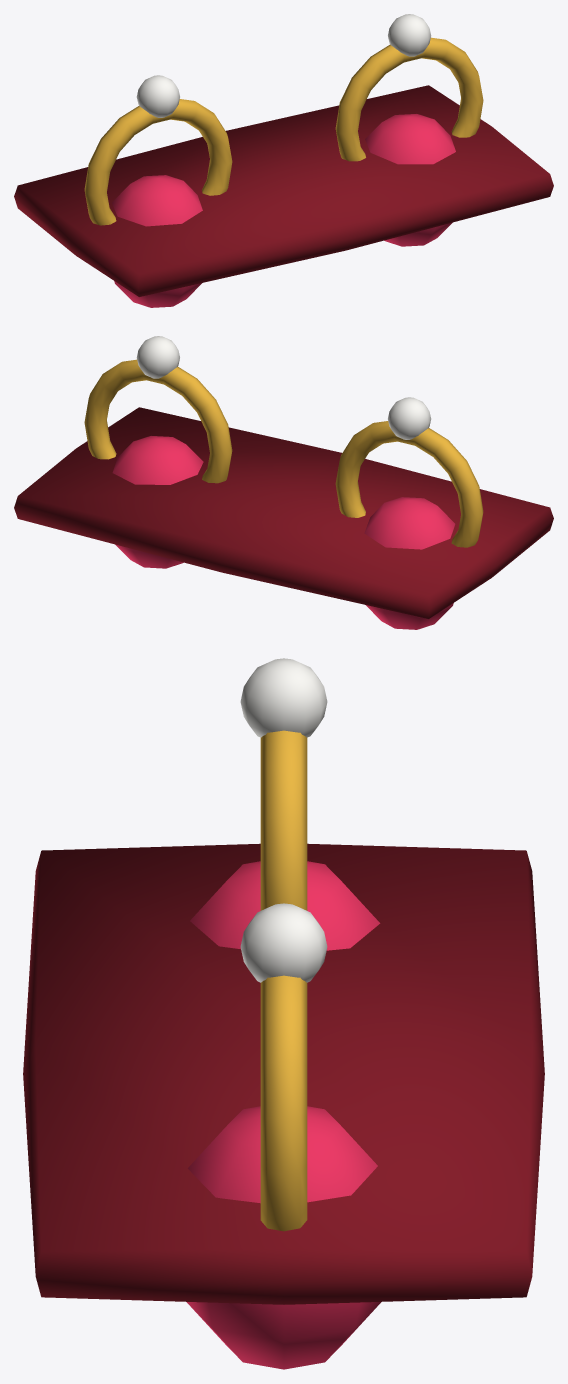
Rendered from earrings.glb.
3 views of the same model, one above another, from view 1: azimuth 30°, elevation 25°; view 2: azimuth 150°, elevation 25°; view 3: azimuth 270°, elevation 25° (orthographic). The views are drawn at different scales.
Parts seen in each view (by area): view 1: root; view 2: root; view 3: root.
Boxes of the visible parts, x1,y1,x2,y2 form: root: (14, 14, 553, 307); root: (14, 336, 553, 629); root: (23, 658, 544, 1369).
Bounding box in the file's own units: 0.34 × 0.173 × 0.18.
